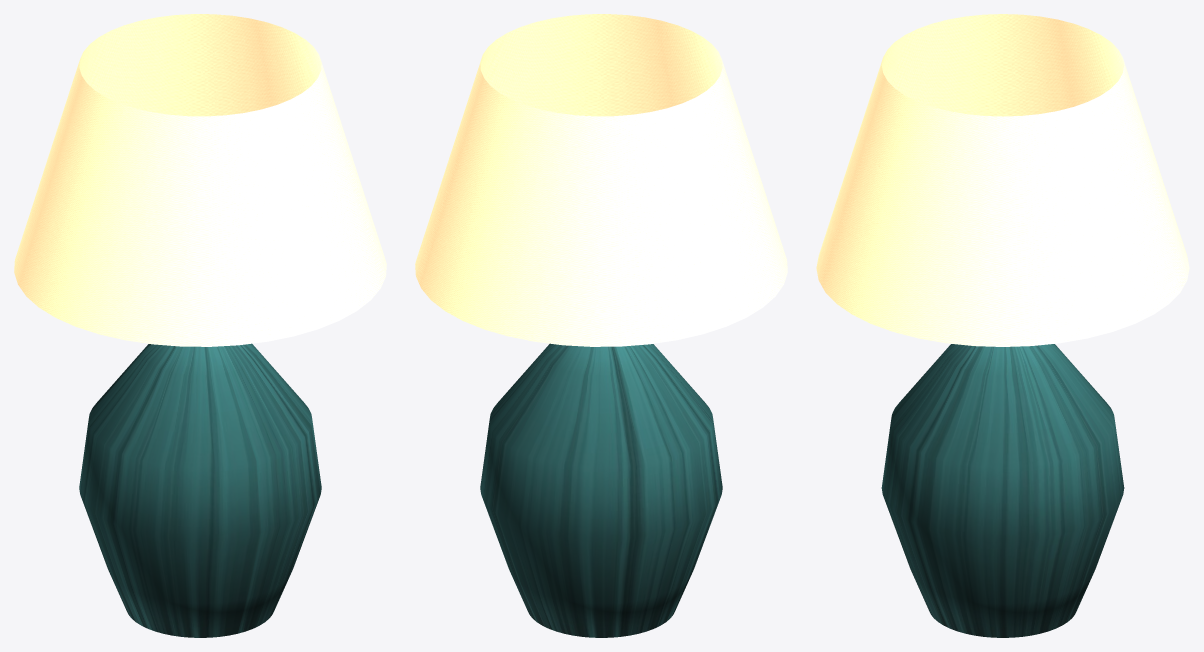
The model's file is abajur-ceramica-turquesa.glb.
3 renders of one model, left to right at view 1: azimuth 30°, elevation 25°; view 2: azimuth 150°, elevation 25°; view 3: azimuth 270°, elevation 25°, orthographic.
Parts seen in each view (by area): view 1: tableLamp; view 2: tableLamp; view 3: tableLamp.
Part boxes in pixels (x1,y1,x2,y2): tableLamp: (14, 14, 386, 637); tableLamp: (415, 14, 787, 637); tableLamp: (816, 14, 1189, 637).
Size of the model in its own units: 0.4 by 0.64 by 0.4.
Materials: 3 (2 with a texture image).
